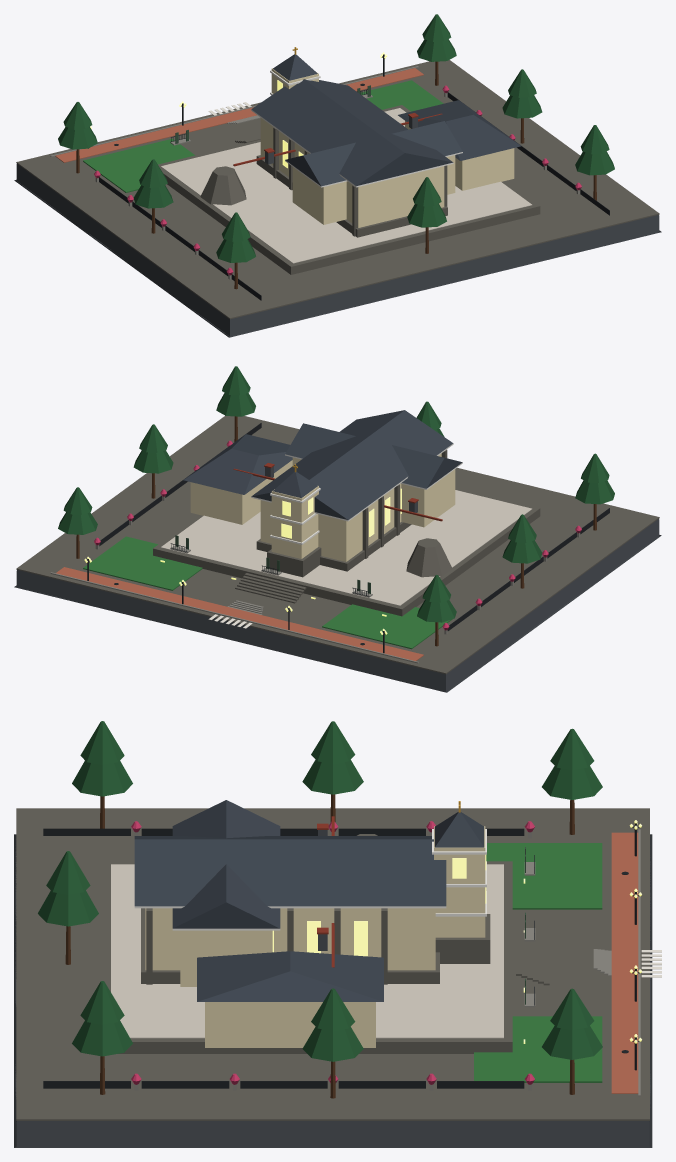
File: lm_45_nha_tho_chi_lang.glb
3 renders of one model, top to bottom at view 1: azimuth 30°, elevation 25°; view 2: azimuth 150°, elevation 25°; view 3: azimuth 270°, elevation 25°, orthographic. The views are drawn at different scales.
Visible parts, largest first — view 1: Foundation_Plinth_Trim, Foundation_Skirt, ChiLang_Courtyard_Esplanade, ChiLang_Nave_Slate_Roof, ChiLang_Pine_Canopies, ChiLang_Cream_Walls, ChiLang_Granite_Podium_And_Buttresses, ChiLang_Garden_Lawns, ChiLang_Rectory_Slate_Roof, ChiLang_Transept_Slate_Roof, Phase2_Interlocking_Brick_Sidewalk, Phase2_WroughtIron_Balconies_Railings_Manholes (+3 smaller); view 2: Foundation_Plinth_Trim, ChiLang_Courtyard_Esplanade, Foundation_Skirt, ChiLang_Granite_Podium_And_Buttresses, ChiLang_Cream_Walls, ChiLang_Nave_Slate_Roof, ChiLang_Pine_Canopies, ChiLang_Garden_Lawns, ChiLang_Rectory_Slate_Roof, Phase2_Interlocking_Brick_Sidewalk, ChiLang_Transept_Slate_Roof, Phase2_WroughtIron_Balconies_Railings_Manholes (+4 smaller); view 3: Foundation_Plinth_Trim, ChiLang_Cream_Walls, ChiLang_Nave_Slate_Roof, Foundation_Skirt, ChiLang_Pine_Canopies, ChiLang_Courtyard_Esplanade, ChiLang_Granite_Podium_And_Buttresses, ChiLang_Garden_Lawns, ChiLang_Rectory_Slate_Roof, Phase2_Interlocking_Brick_Sidewalk, ChiLang_Transept_Slate_Roof, Phase2_WroughtIron_Balconies_Railings_Manholes (+7 smaller).
Part boxes in pixels (box(x1,y1,x2,y2)): Foundation_Plinth_Trim: box(16, 60, 659, 319); Foundation_Skirt: box(14, 164, 661, 337); ChiLang_Courtyard_Esplanade: box(161, 108, 531, 263); ChiLang_Nave_Slate_Roof: box(251, 79, 453, 185); ChiLang_Pine_Canopies: box(58, 14, 614, 262); ChiLang_Cream_Walls: box(260, 68, 514, 227); ChiLang_Granite_Podium_And_Buttresses: box(158, 105, 540, 274); ChiLang_Garden_Lawns: box(83, 80, 443, 192); ChiLang_Rectory_Slate_Roof: box(398, 100, 521, 160); ChiLang_Transept_Slate_Roof: box(285, 121, 462, 186); Phase2_Interlocking_Brick_Sidewalk: box(55, 68, 423, 162); Phase2_WroughtIron_Balconies_Railings_Manholes: box(88, 54, 609, 300); Foundation_Plinth_Trim: box(16, 415, 659, 674); ChiLang_Courtyard_Esplanade: box(161, 490, 531, 605); Foundation_Skirt: box(14, 519, 661, 692); ChiLang_Granite_Podium_And_Buttresses: box(153, 449, 540, 616); ChiLang_Cream_Walls: box(190, 453, 455, 561); ChiLang_Nave_Slate_Roof: box(251, 410, 453, 519); ChiLang_Pine_Canopies: box(58, 366, 614, 622); ChiLang_Garden_Lawns: box(83, 536, 452, 649); ChiLang_Rectory_Slate_Roof: box(183, 434, 292, 494); Phase2_Interlocking_Brick_Sidewalk: box(56, 567, 423, 660); ChiLang_Transept_Slate_Roof: box(285, 423, 462, 488); Phase2_WroughtIron_Balconies_Railings_Manholes: box(87, 423, 609, 653); Foundation_Plinth_Trim: box(16, 808, 649, 1120); ChiLang_Cream_Walls: box(145, 826, 485, 1047); ChiLang_Nave_Slate_Roof: box(134, 836, 446, 906); Foundation_Skirt: box(14, 834, 652, 1147); ChiLang_Pine_Canopies: box(38, 721, 602, 1061); ChiLang_Courtyard_Esplanade: box(111, 864, 503, 1038); ChiLang_Granite_Podium_And_Buttresses: box(102, 834, 549, 1053); ChiLang_Garden_Lawns: box(474, 843, 602, 1082); ChiLang_Rectory_Slate_Roof: box(197, 951, 383, 1001); Phase2_Interlocking_Brick_Sidewalk: box(611, 832, 638, 1093); ChiLang_Transept_Slate_Roof: box(172, 800, 280, 928); Phase2_WroughtIron_Balconies_Railings_Manholes: box(43, 823, 639, 1088).
Bounding box in the file's own units: 86.85 × 24.5 × 75.87.
